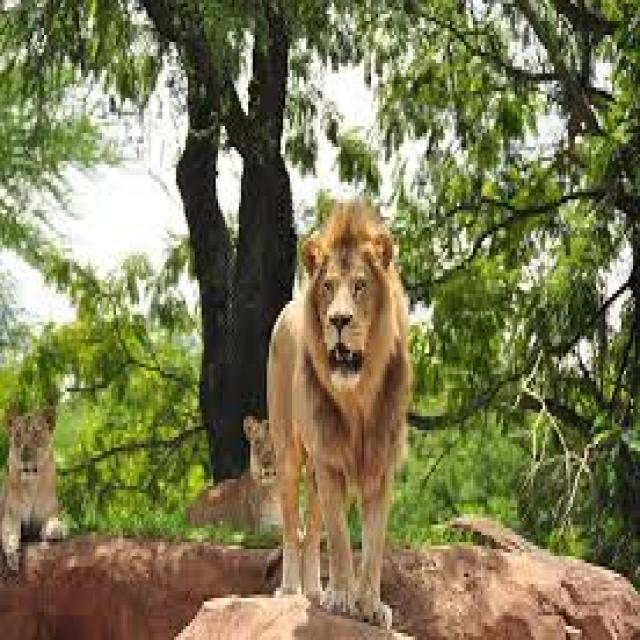Lion: (266, 201, 411, 633)
